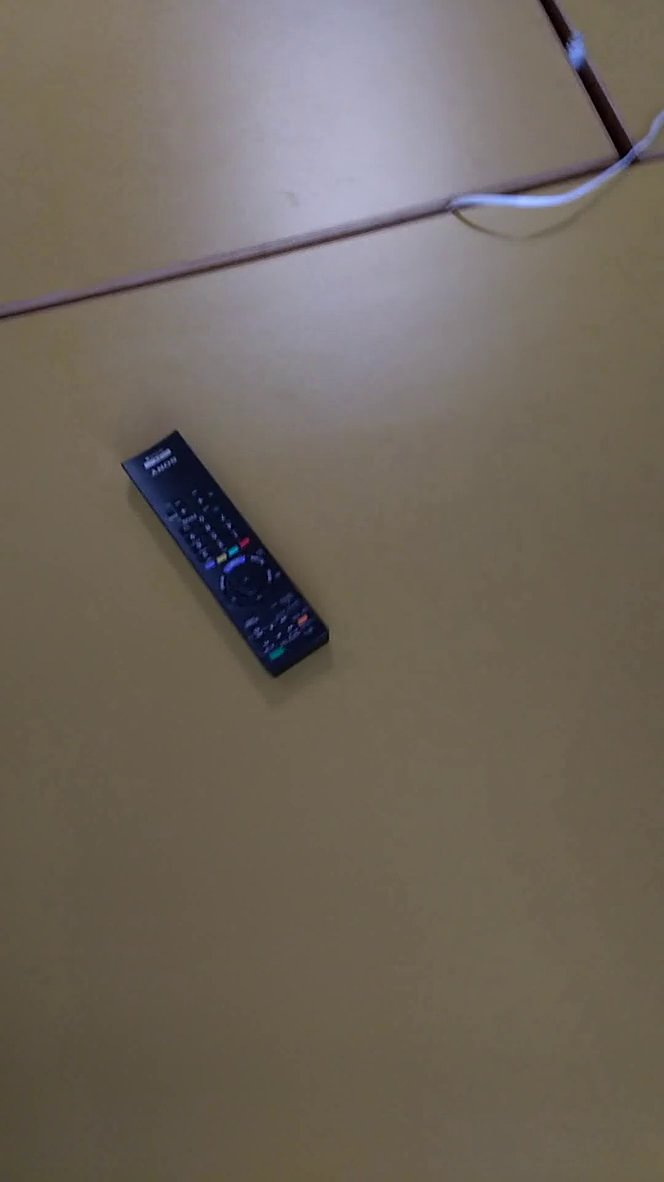remote: (113, 417, 341, 694)
